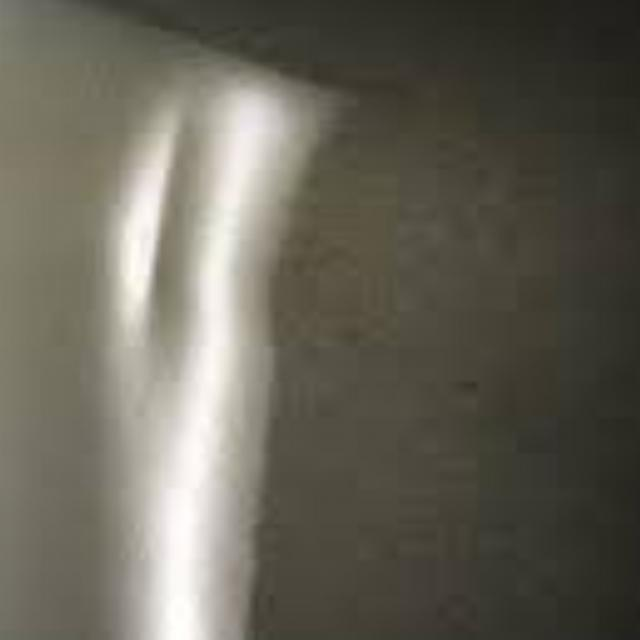dents: (135, 110, 207, 374)
